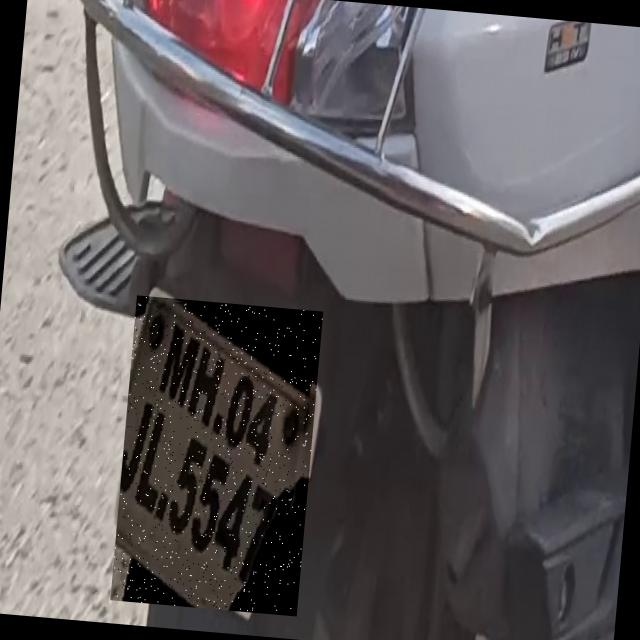Plate: (111, 296, 324, 617)
